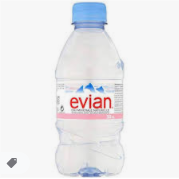Bottle: (56, 2, 126, 177)
